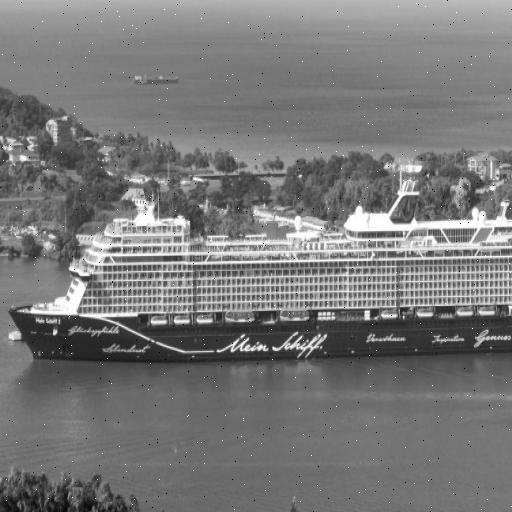cruises: (6, 177, 512, 370)
